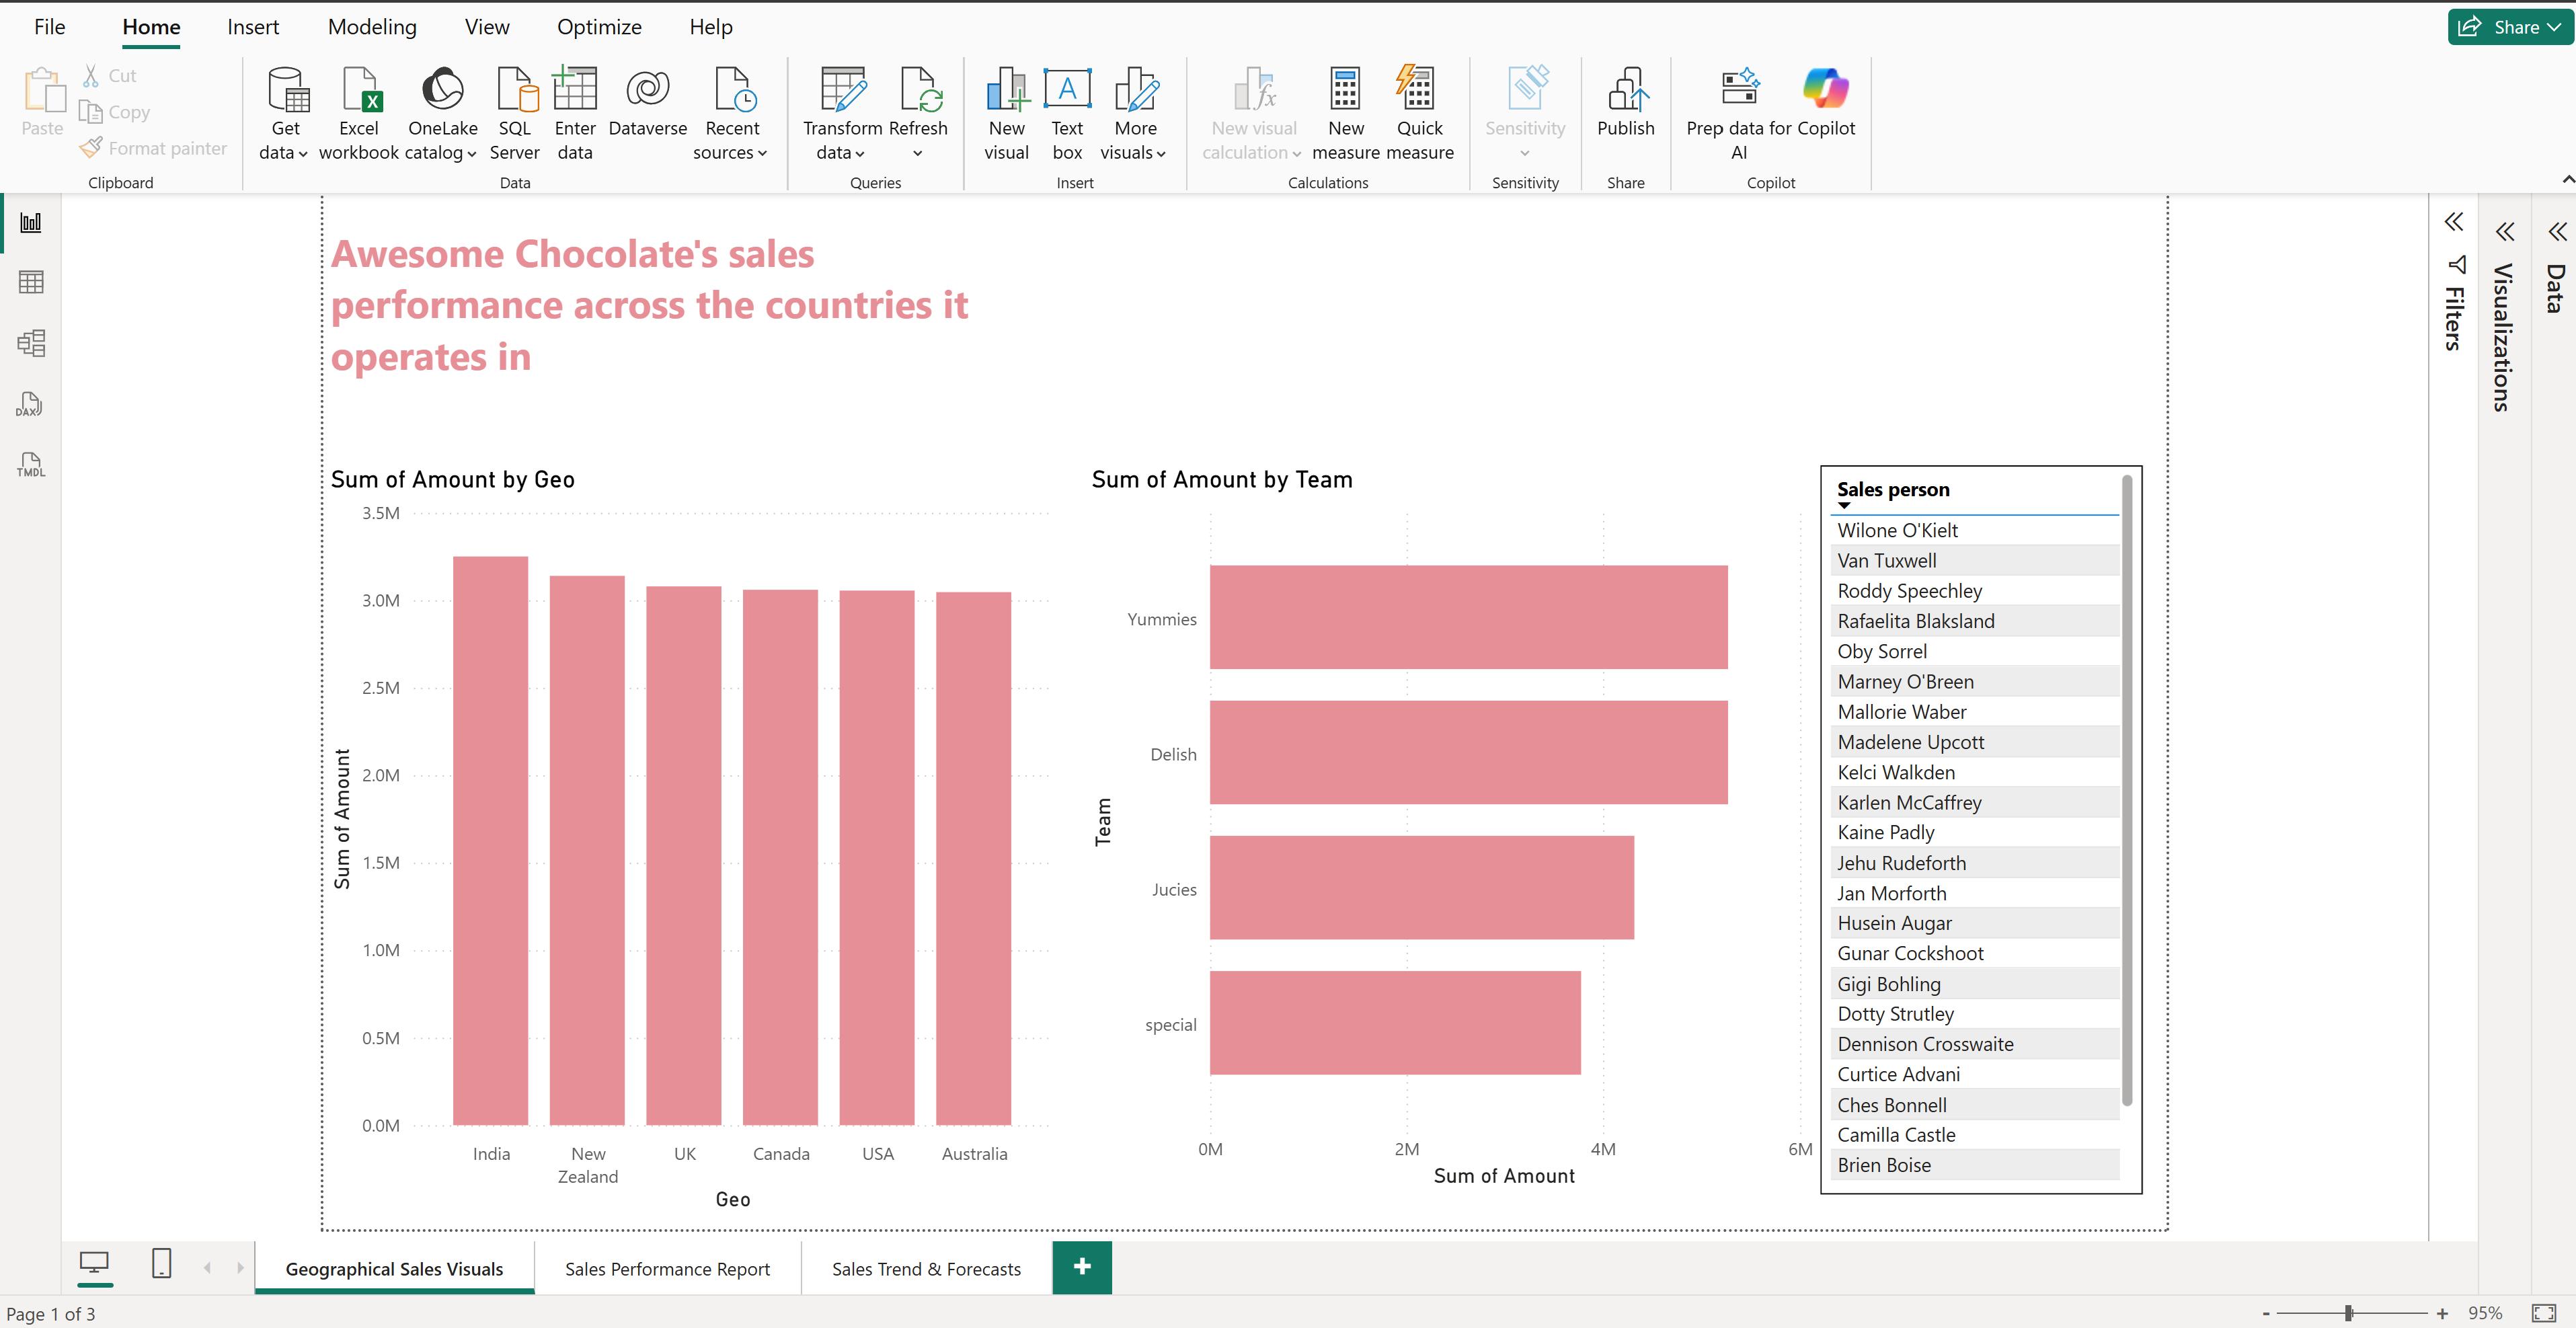

This screenshot's page, from the dashboard's own definition file:
{"tool":"powerbi","page":{"name":"Geographical Sales Visuals","canvas":[1280,720],"ordinal":0},"visuals":[{"type":"columnChart","fields":{"Category":["locations.Geo"],"Y":["Sum(sales.Amount)"]},"box":[0,189.1,511.5,523.1],"z":0},{"type":"barChart","fields":{"Y":["Sum(sales.Amount)"],"Category":["people.Team"]},"box":[528.8,189.2,510.9,506.7],"z":1000},{"type":"tableEx","fields":{"Values":["people.Sales person"]},"box":[1039.7,189.2,223.9,506.7],"z":2000},{"type":"textbox","box":[0,0,462.8,151.9],"z":4000}]}

Visuals, with their boxes on the page's 1280x720 design canvas (x1, y1, x2, y2). These are canvas units, not pixel positions in the 2576x1328 screenshot, which may show the page scaled, cropped or inside an application window:
columnChart - locations.Geo x Sum(sales.Amount): rect(0, 189, 512, 712)
barChart - Sum(sales.Amount) x people.Team: rect(529, 189, 1040, 696)
tableEx - people.Sales person: rect(1040, 189, 1264, 696)
textbox: rect(0, 0, 463, 152)
